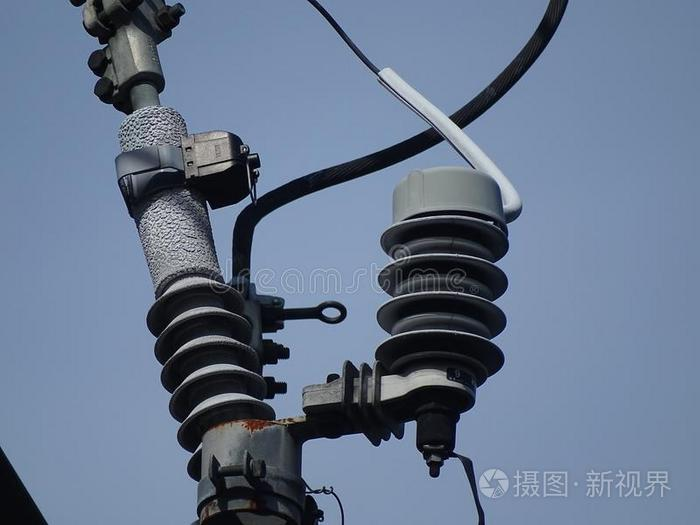insulator: (374, 216, 507, 365), (147, 281, 265, 432)
